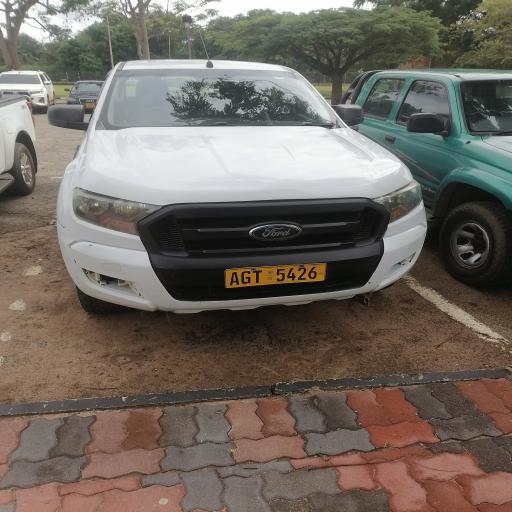number-plates: (222, 260, 338, 288)
